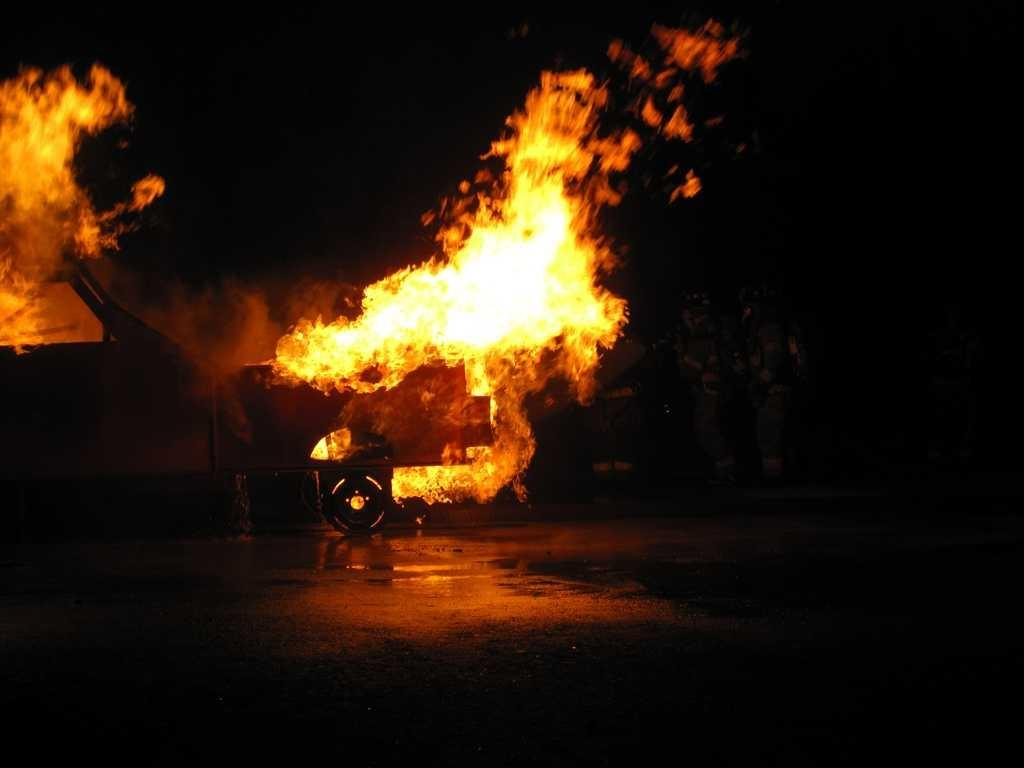fire: (288, 61, 634, 500), (0, 62, 121, 321)
